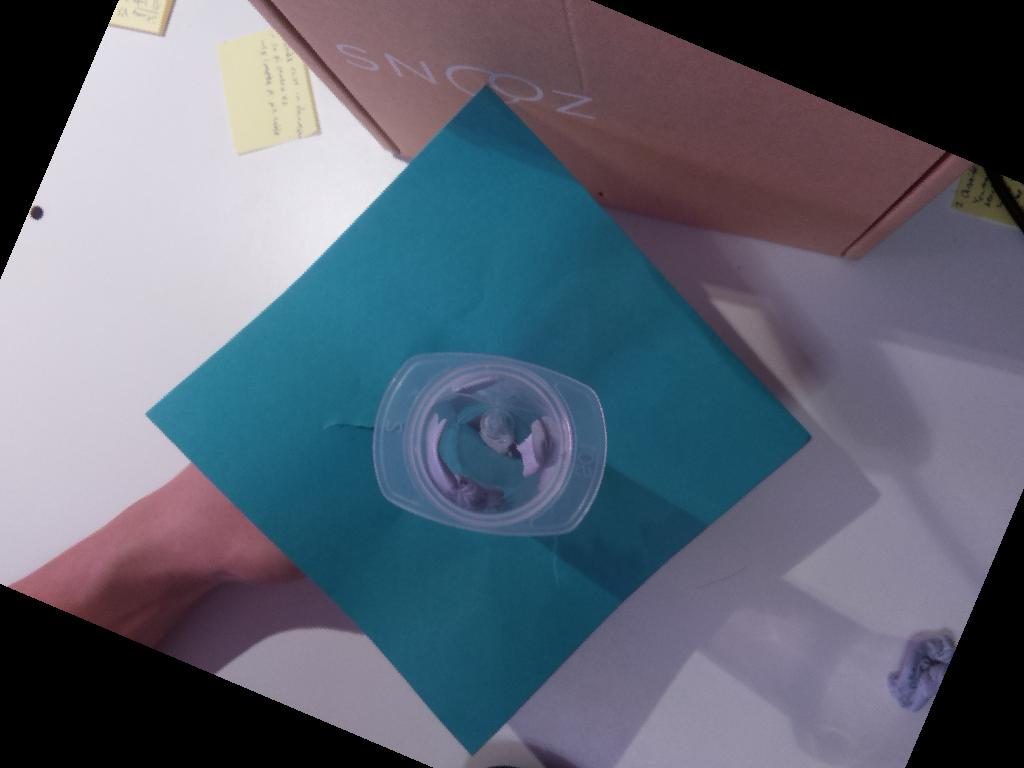dirty: (365, 349, 621, 547)
